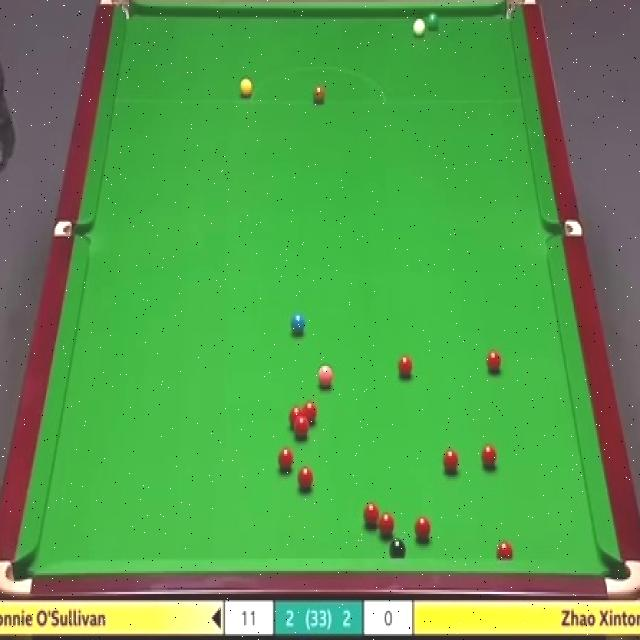black-ball: (390, 536, 406, 559)
blue-ball: (289, 311, 307, 334)
brown-ball: (312, 81, 325, 103)
green-ball: (425, 12, 440, 32)
pink-ball: (317, 365, 334, 391)
red-ball: (442, 448, 461, 475), (414, 516, 432, 544), (379, 509, 395, 540), (397, 351, 414, 380), (362, 502, 380, 528), (481, 443, 499, 469), (274, 449, 294, 472), (292, 472, 311, 494), (485, 349, 501, 375), (289, 406, 303, 432), (495, 539, 514, 558), (303, 401, 317, 426), (295, 419, 310, 440)
white-ball: (412, 15, 427, 37)
yellow-ball: (238, 80, 252, 97)
